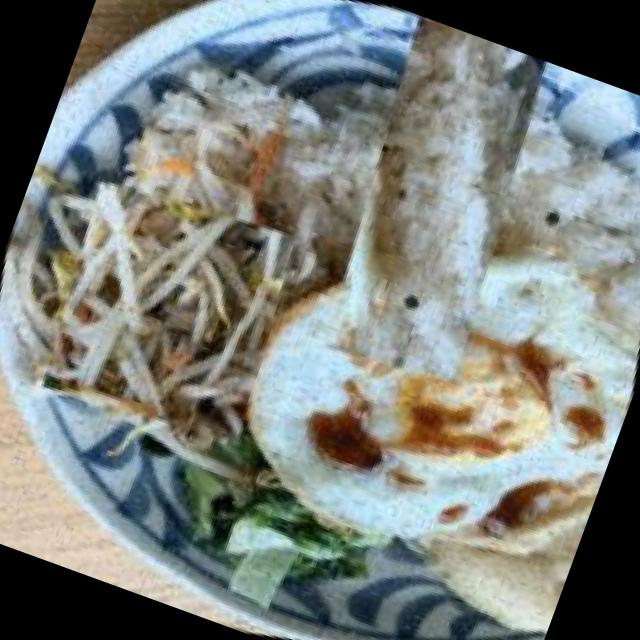fried_eggs: (157, 120, 640, 640)
mung_bean_sprouts: (0, 137, 344, 487)
rice: (231, 0, 640, 397)
